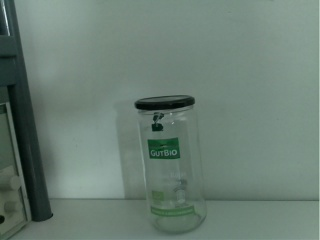pote cristal: (135, 95, 207, 235)
